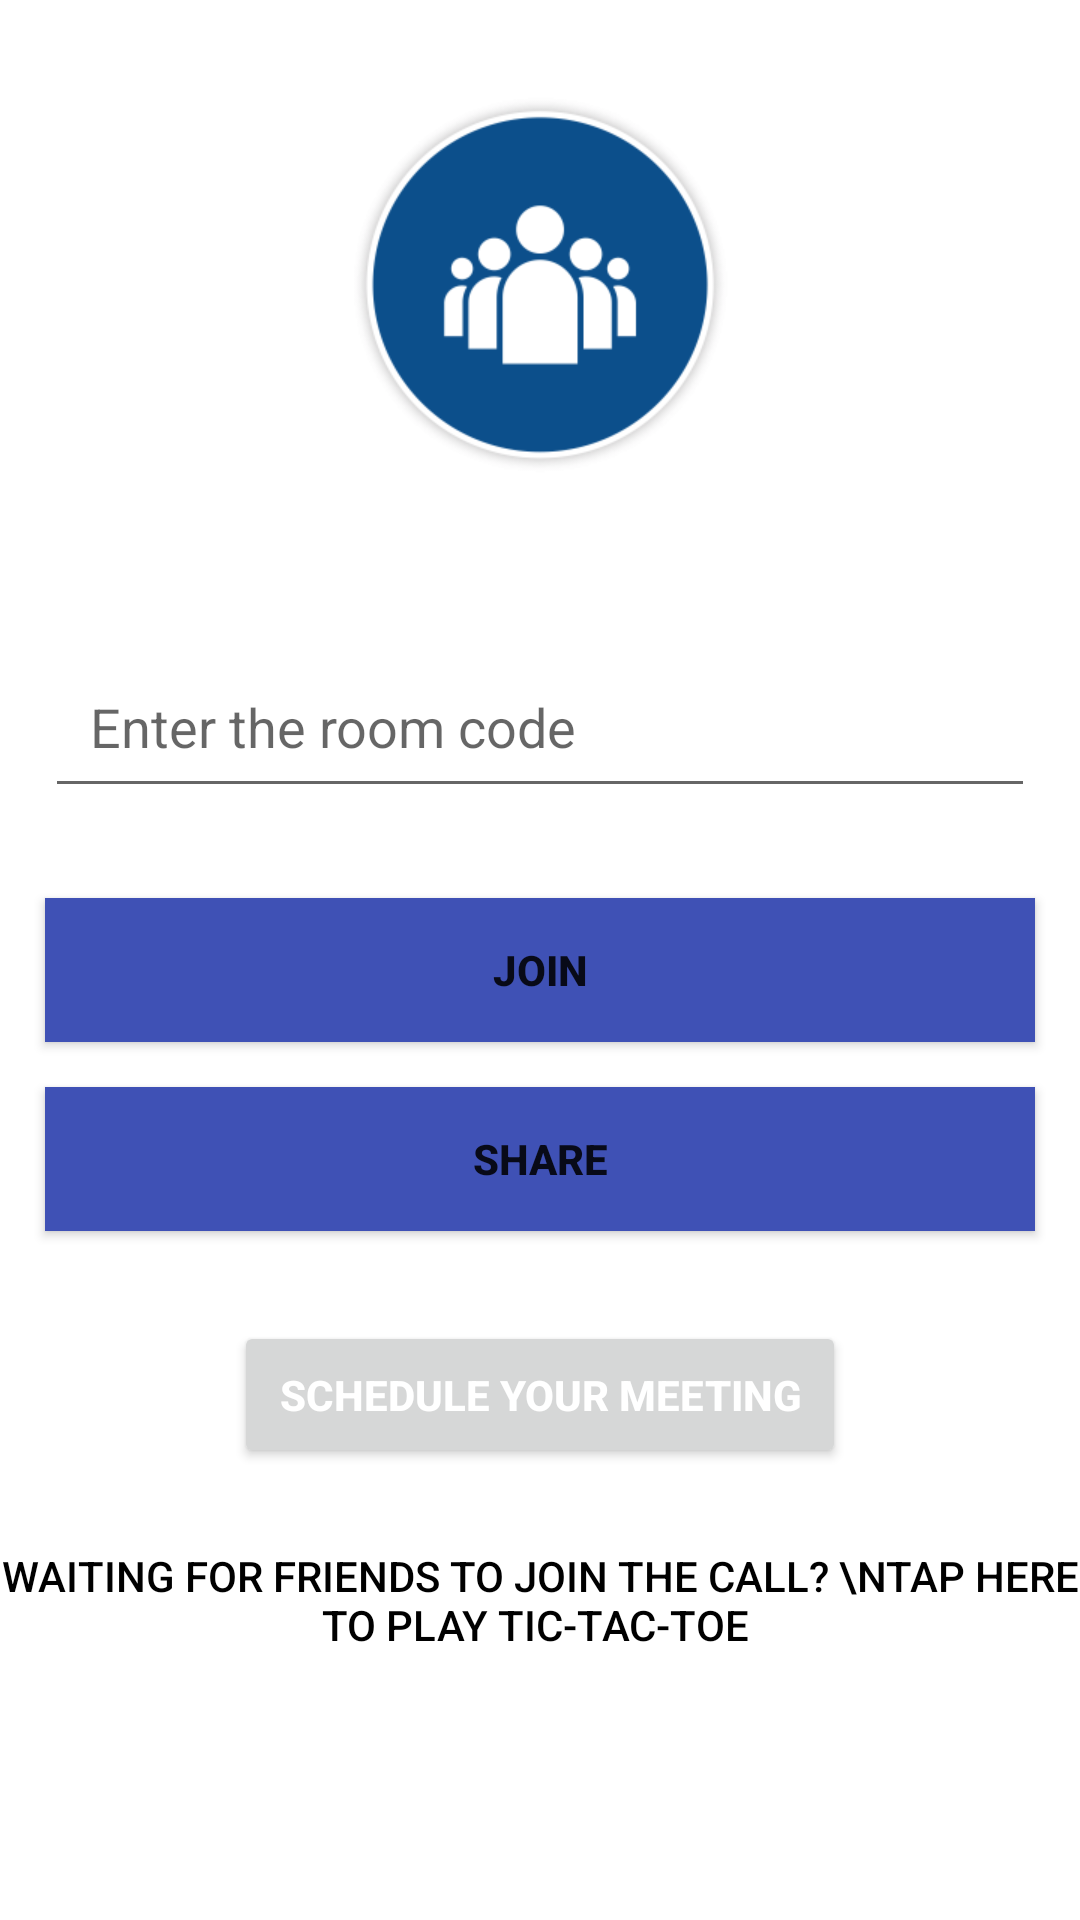

Icons on this 1080 x 1920 Android screen, each with its box as [x1=x1, y1=y1, x2=x2, y2=y2]:
teamsicon: [x1=363, y1=108, x2=717, y2=462]
